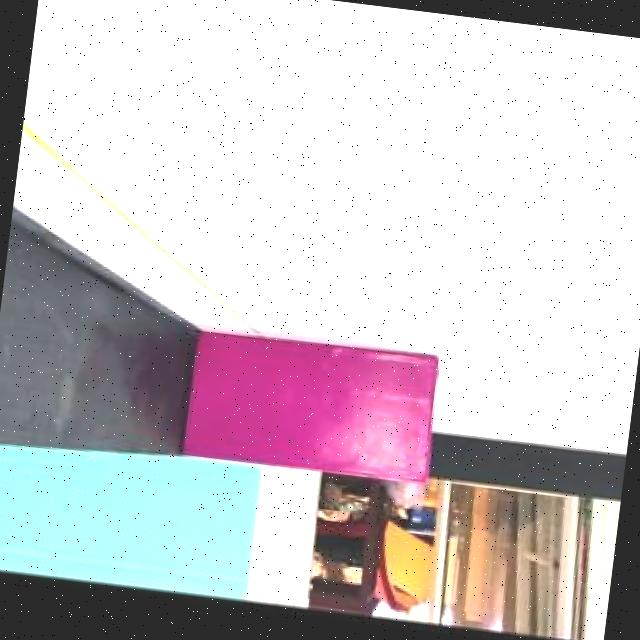xparking: (185, 326, 436, 484)
